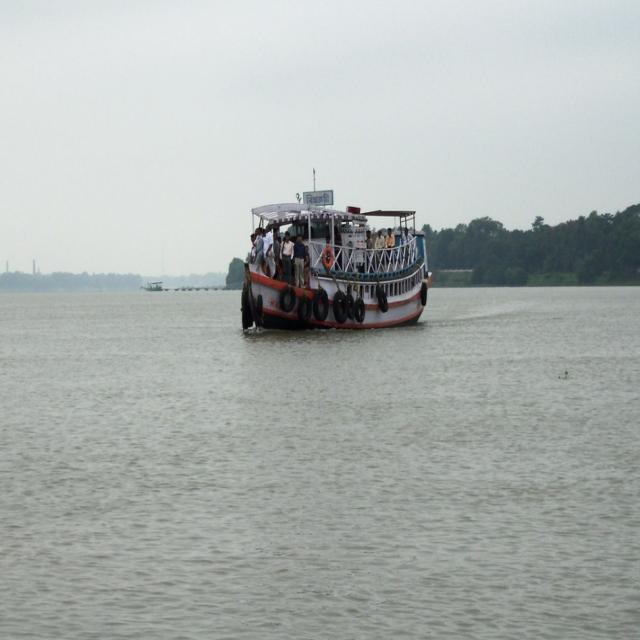fishing boat: (224, 176, 434, 343)
